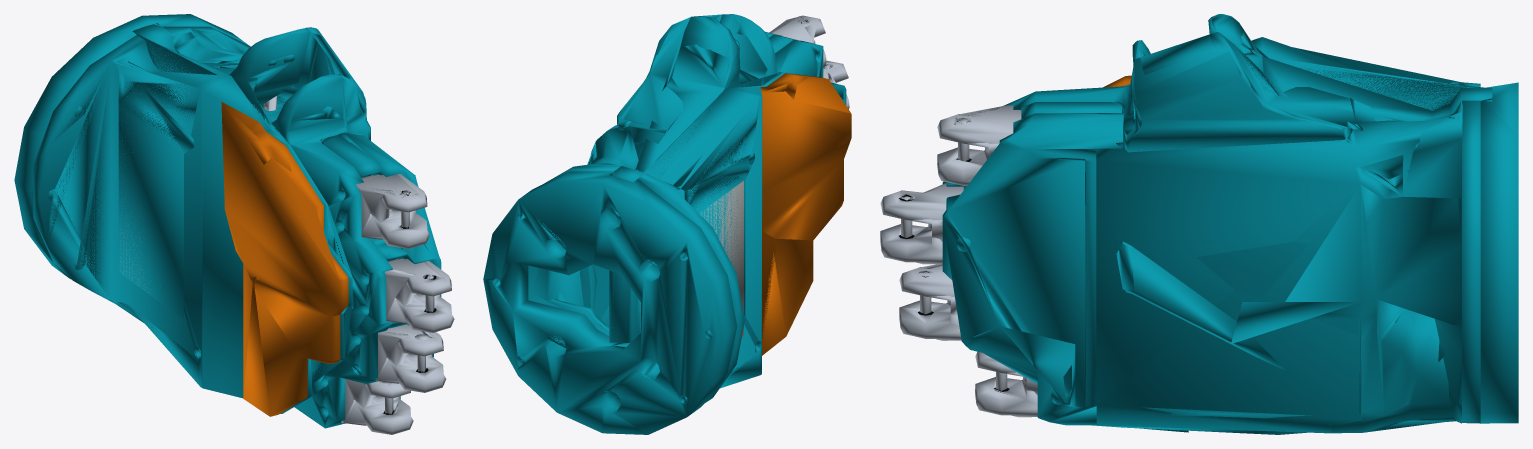
The model's file is palm_r_low_poly.obj.
3 renders of one model, left to right at view 1: azimuth 30°, elevation 25°; view 2: azimuth 150°, elevation 25°; view 3: azimuth 270°, elevation 25°, orthographic. The views are drawn at different scales.
Size of the model in its own units: 0.09 by 0.1187 by 0.1684.
